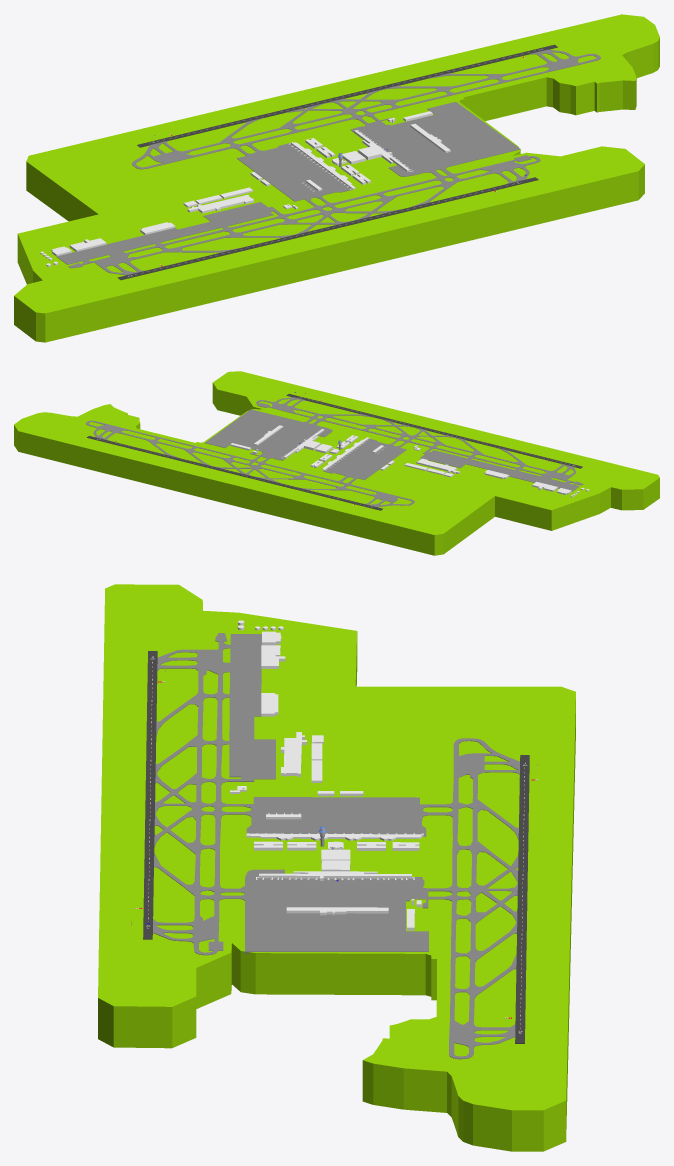
File: airport_munich.fbx
3 renders of one model, top to bottom at view 1: azimuth 30°, elevation 25°; view 2: azimuth 150°, elevation 25°; view 3: azimuth 270°, elevation 25°, orthographic. The views are drawn at different scales.
Parts seen in each view (by area): view 1: Background, Taxiway, Runway 08R/26L, Runway 08L/26R, Building.001, Cargo-Terminal; view 2: Background, Taxiway, Runway 08L/26R, Runway 08R/26L, Building.001; view 3: Background, Taxiway, Runway 08L/26R, Runway 08R/26L, Building.001, Building.
Part boxes in pixels (box(x1,y1,x2,y2)): Background: box(14, 14, 659, 342); Taxiway: box(56, 49, 600, 275); Runway 08R/26L: box(117, 177, 538, 280); Runway 08L/26R: box(137, 44, 557, 147); Building.001: box(354, 130, 409, 171); Cargo-Terminal: box(187, 194, 253, 213); Background: box(14, 371, 659, 555); Taxiway: box(85, 397, 583, 507); Runway 08L/26R: box(87, 436, 382, 510); Runway 08R/26L: box(286, 394, 582, 468); Building.001: box(283, 429, 324, 458); Background: box(98, 584, 575, 1151); Taxiway: box(153, 633, 519, 1059); Runway 08L/26R: box(515, 755, 529, 1043); Runway 08R/26L: box(143, 651, 157, 939); Building.001: box(259, 860, 411, 880); Building: box(246, 833, 423, 840).
Size of the model in its own units: 6701 by 359 by 2574.
